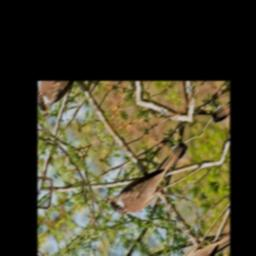Cuckoo: (104, 132, 198, 226)
